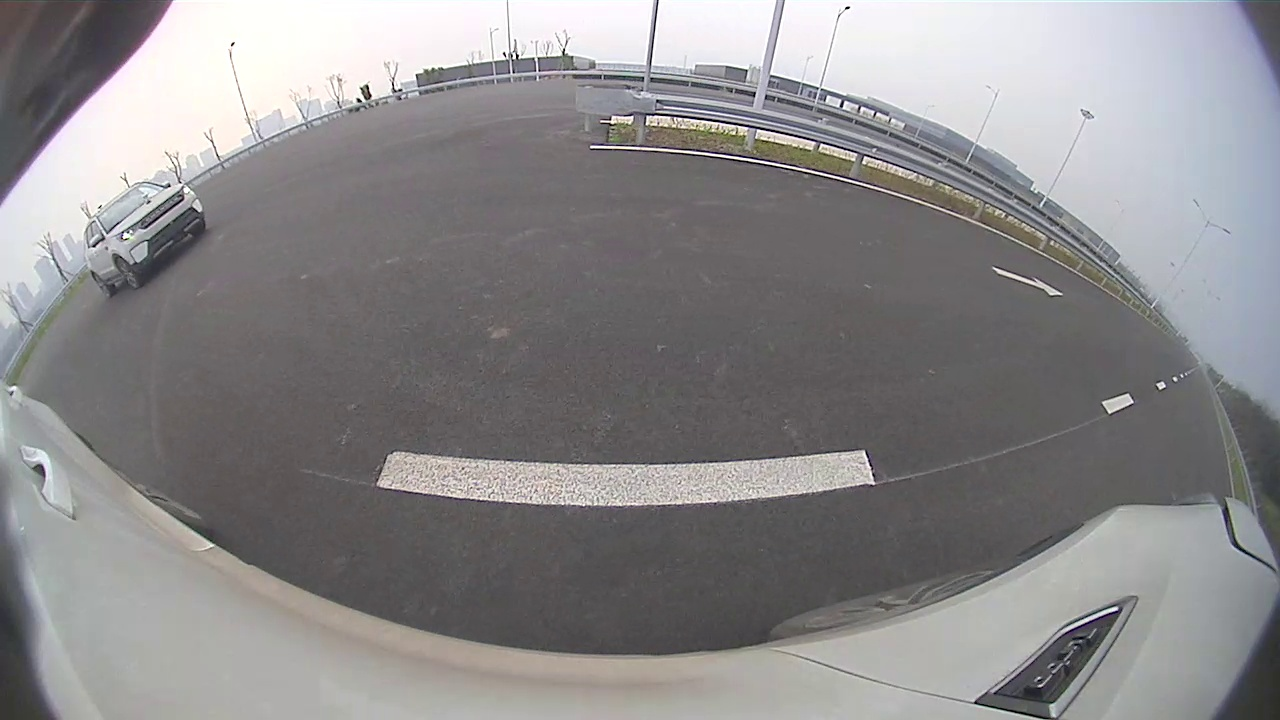car: (82, 178, 208, 298)
front: (114, 257, 143, 290)
